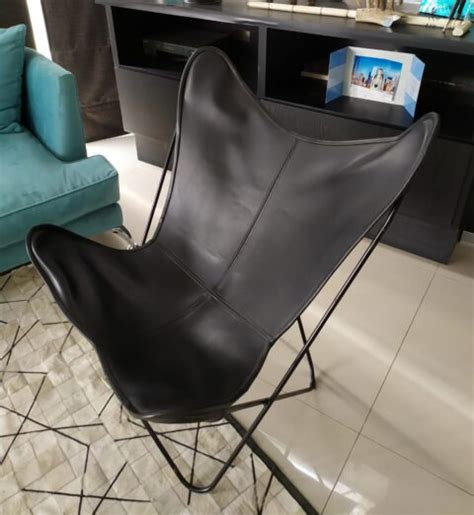cuero: (25, 48, 433, 423)
